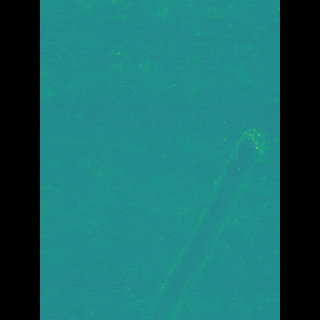Loch: (147, 126, 240, 319)
